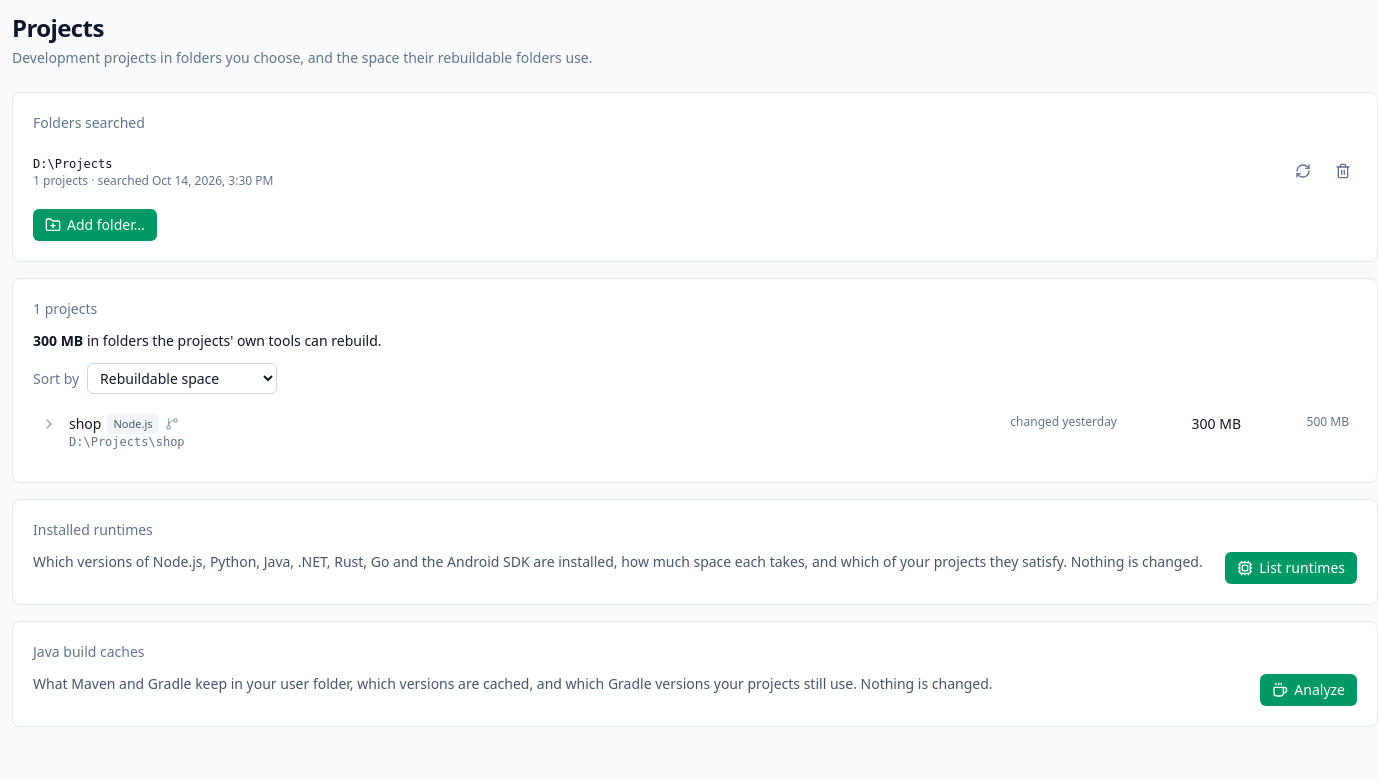
Test: Projects page › stops tracking a folder without touching it
The image size is (1378, 780).
Click the button named "Stop tracking D:\\Projects".
click(1343, 171)  # box [1329,157,1357,185]
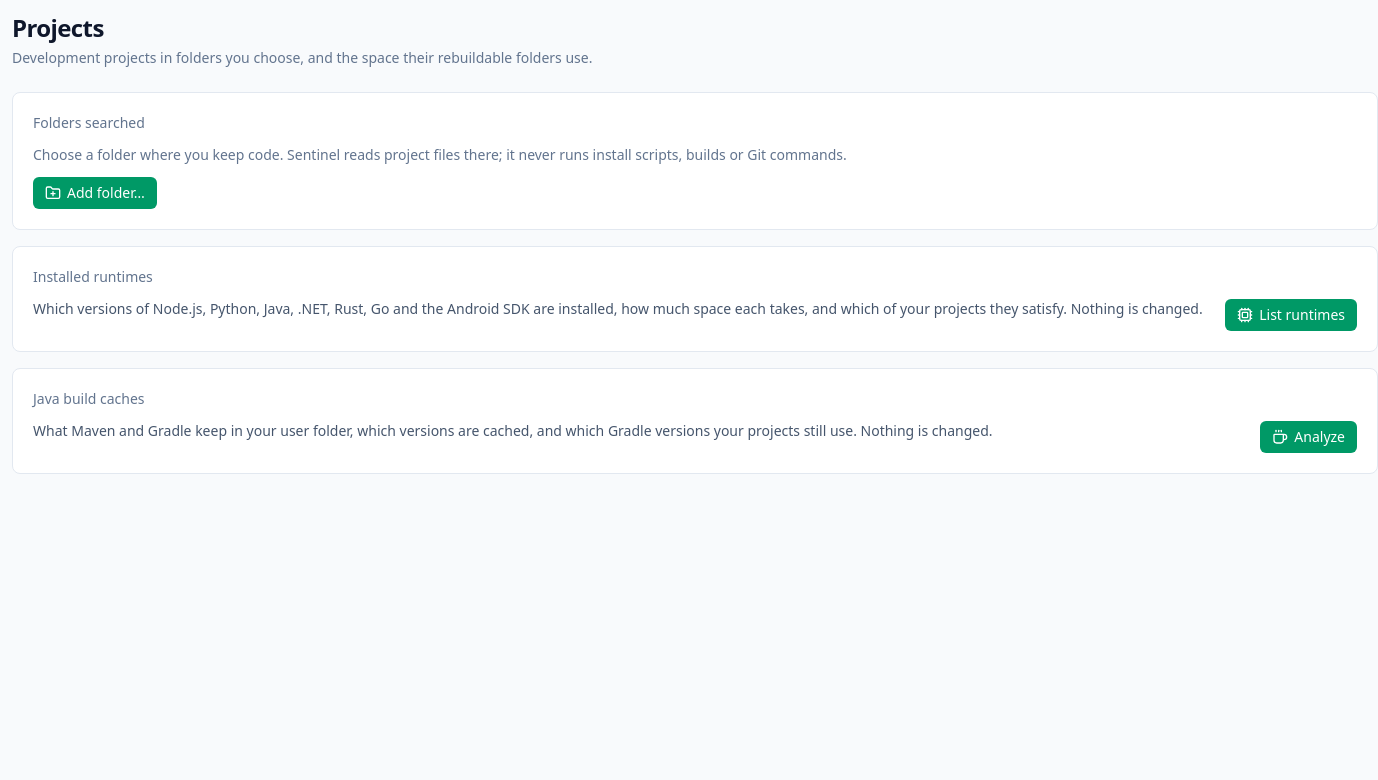
Check: the text "1 projects" is gone
Check: the text "D:\\Projects" is gone
